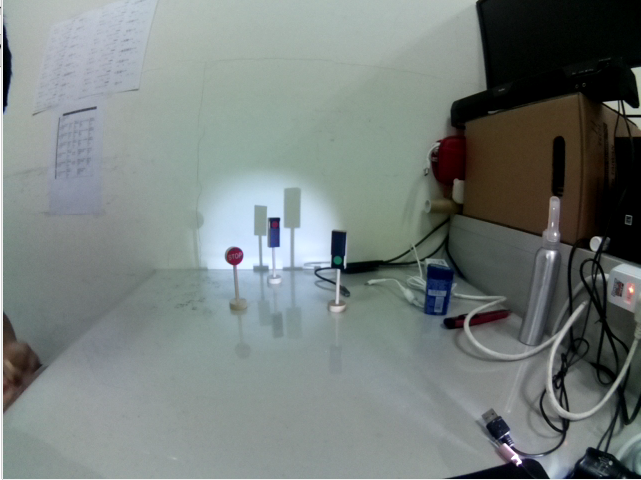Green: (327, 230, 353, 272)
Red: (267, 216, 281, 247)
Stop: (225, 244, 246, 268)
